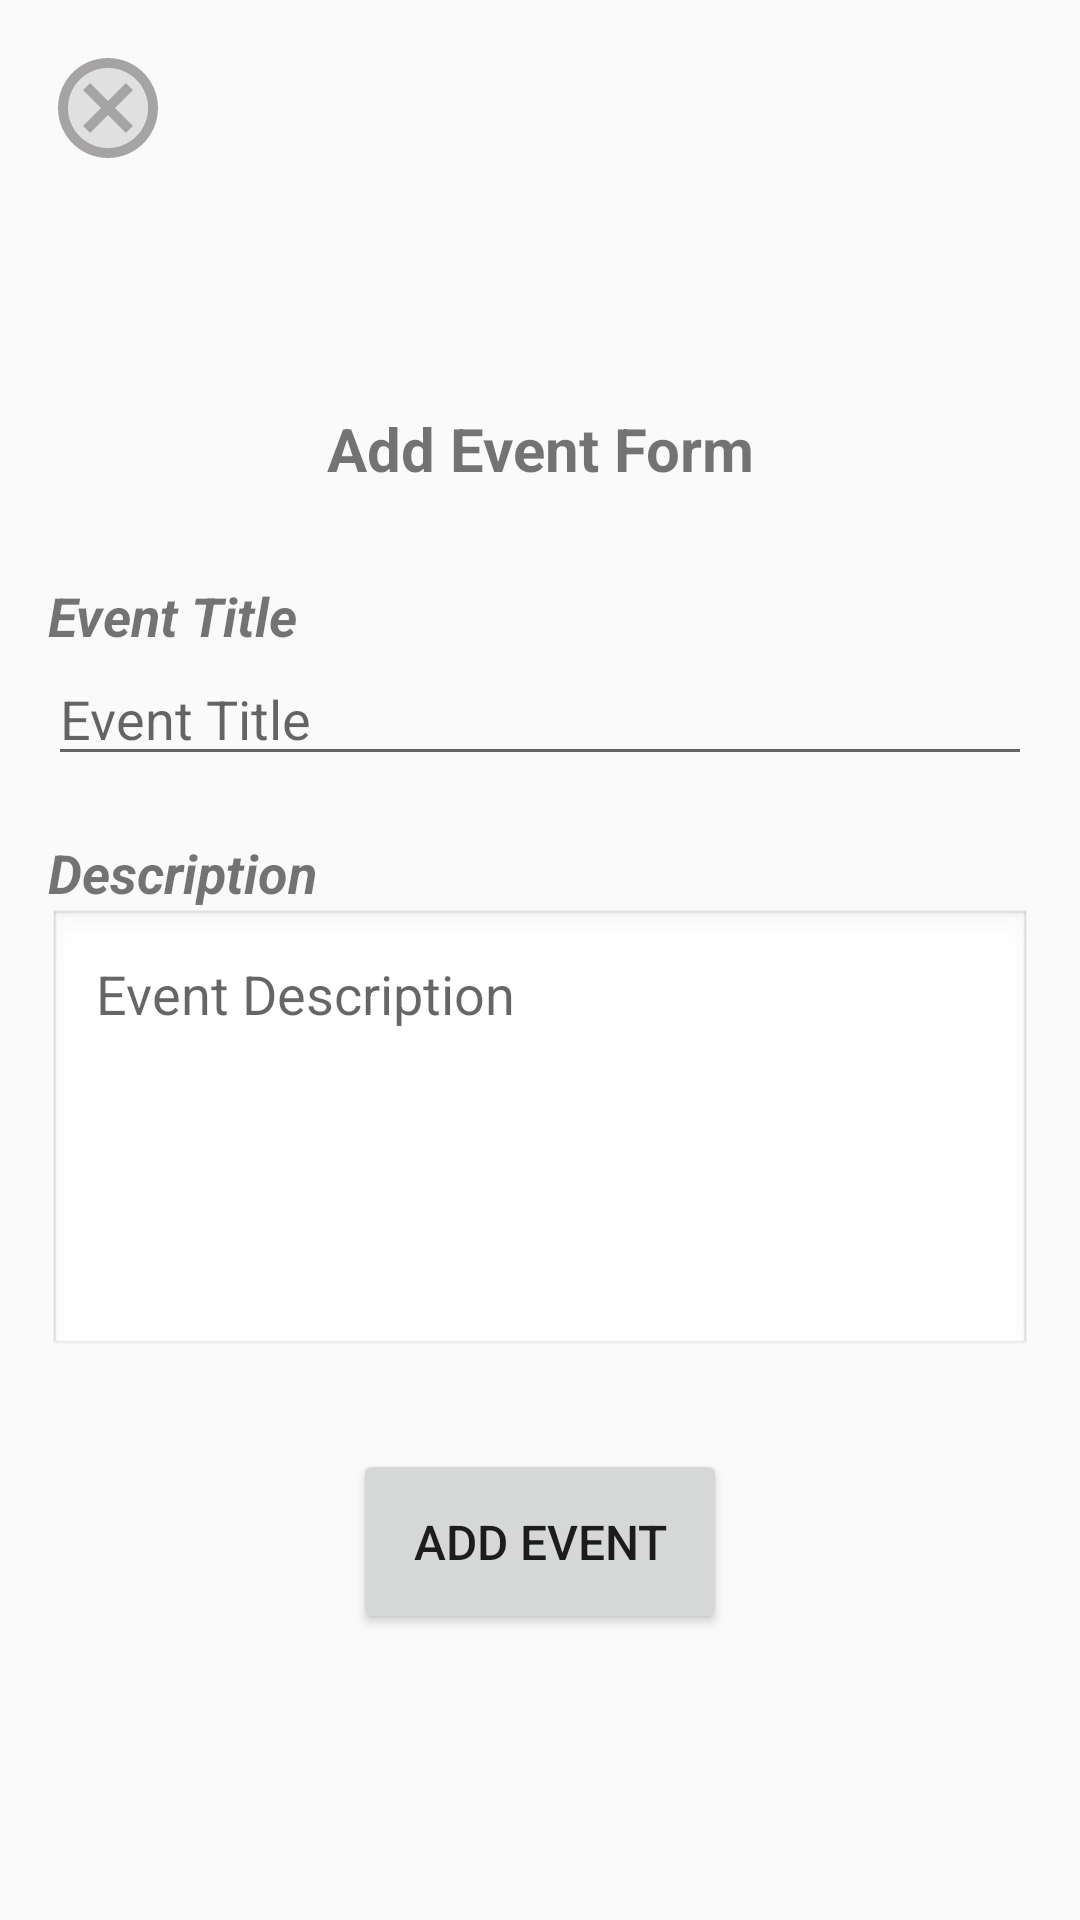

Locate icon controls on the screen. Image size 1080 x 1920, boxes as (x1, y1, x2, y2).
cancel: (58, 58, 158, 158)
